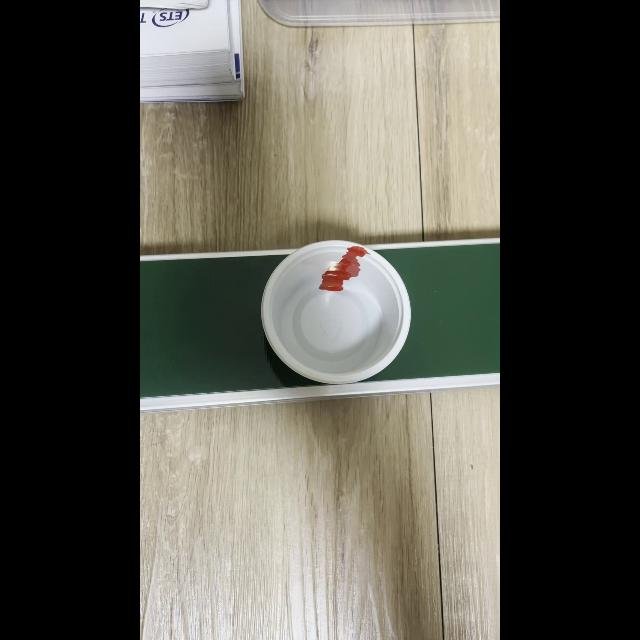dirty: (270, 248, 400, 372)
